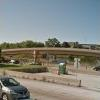Bridge: (4, 35, 99, 62)
